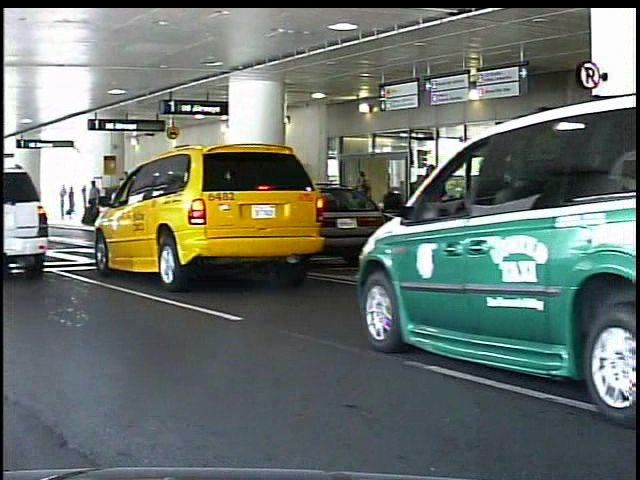person: (354, 168, 379, 231), (88, 178, 106, 229), (69, 184, 81, 225), (62, 184, 72, 224)
